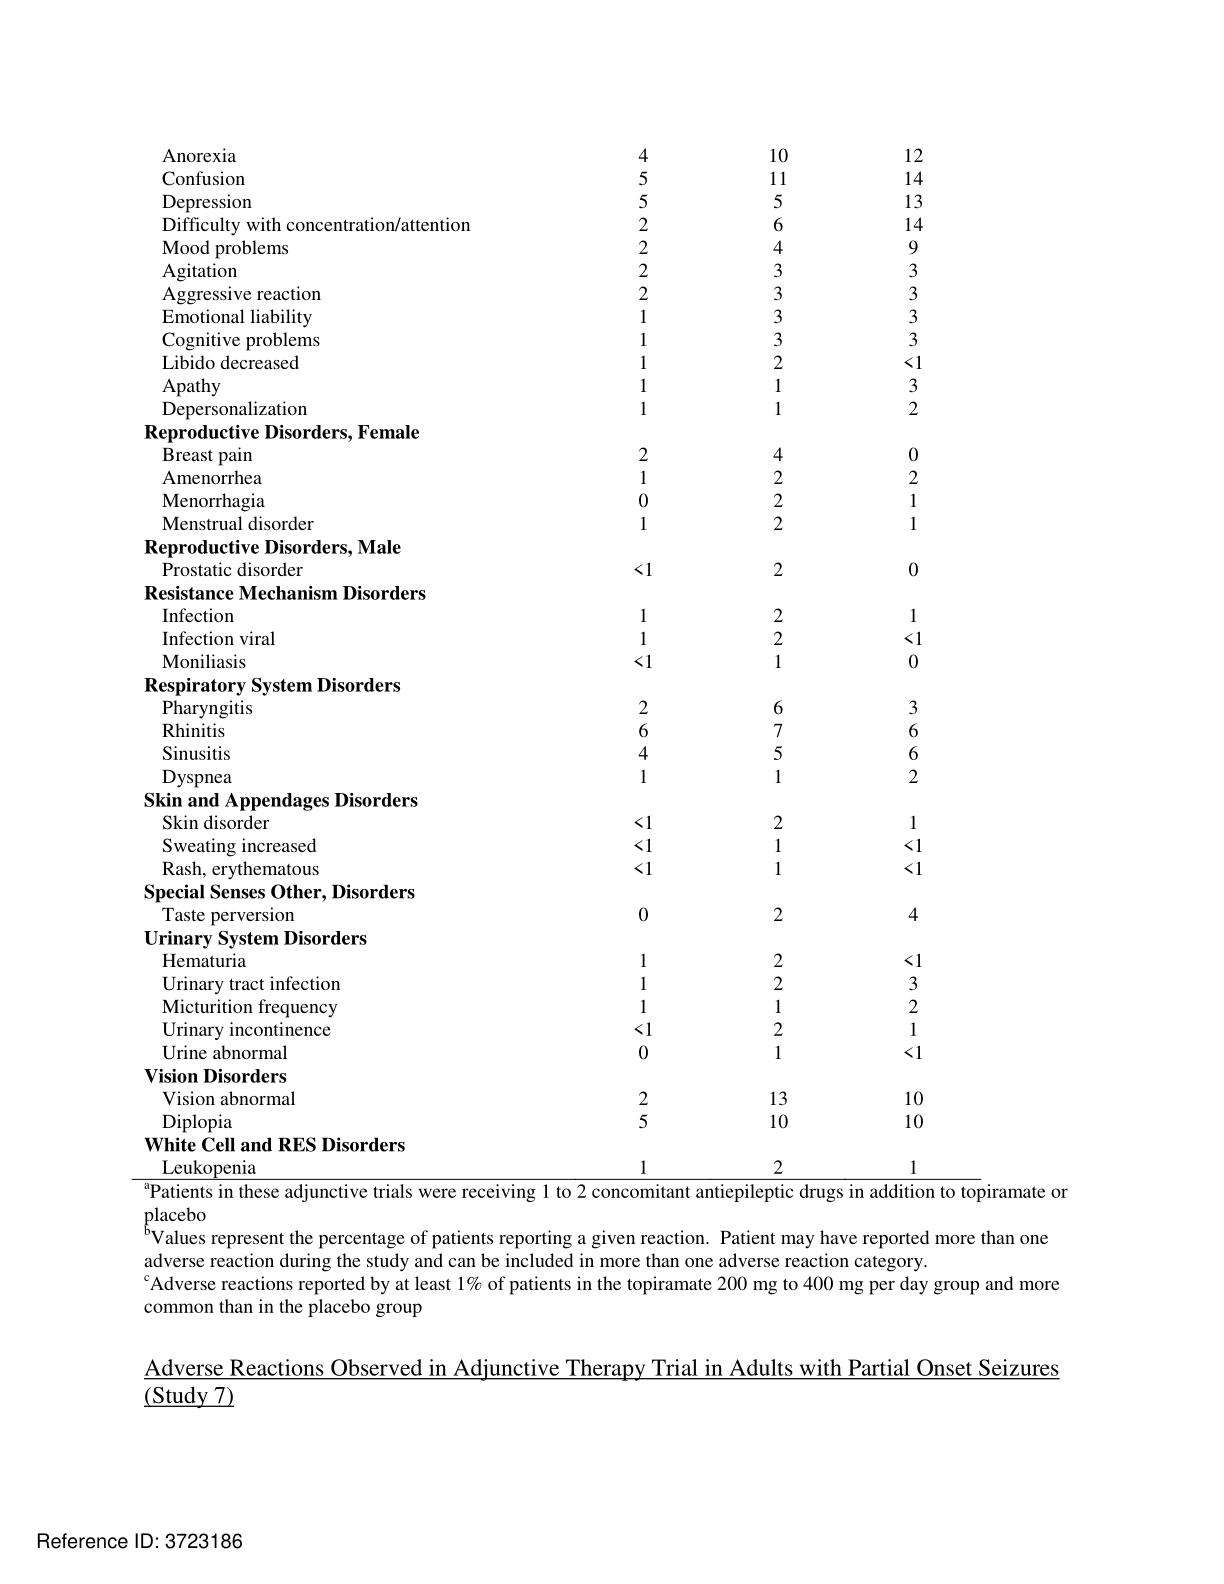nolines: (141, 145, 924, 1176)
